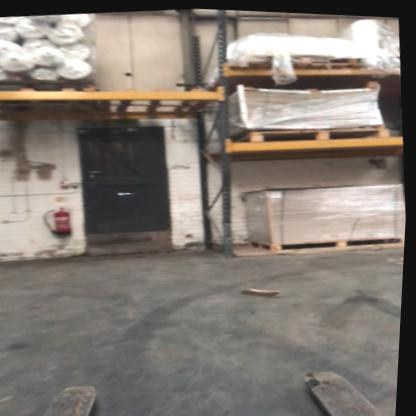vertical_damage: (221, 214, 242, 236)
